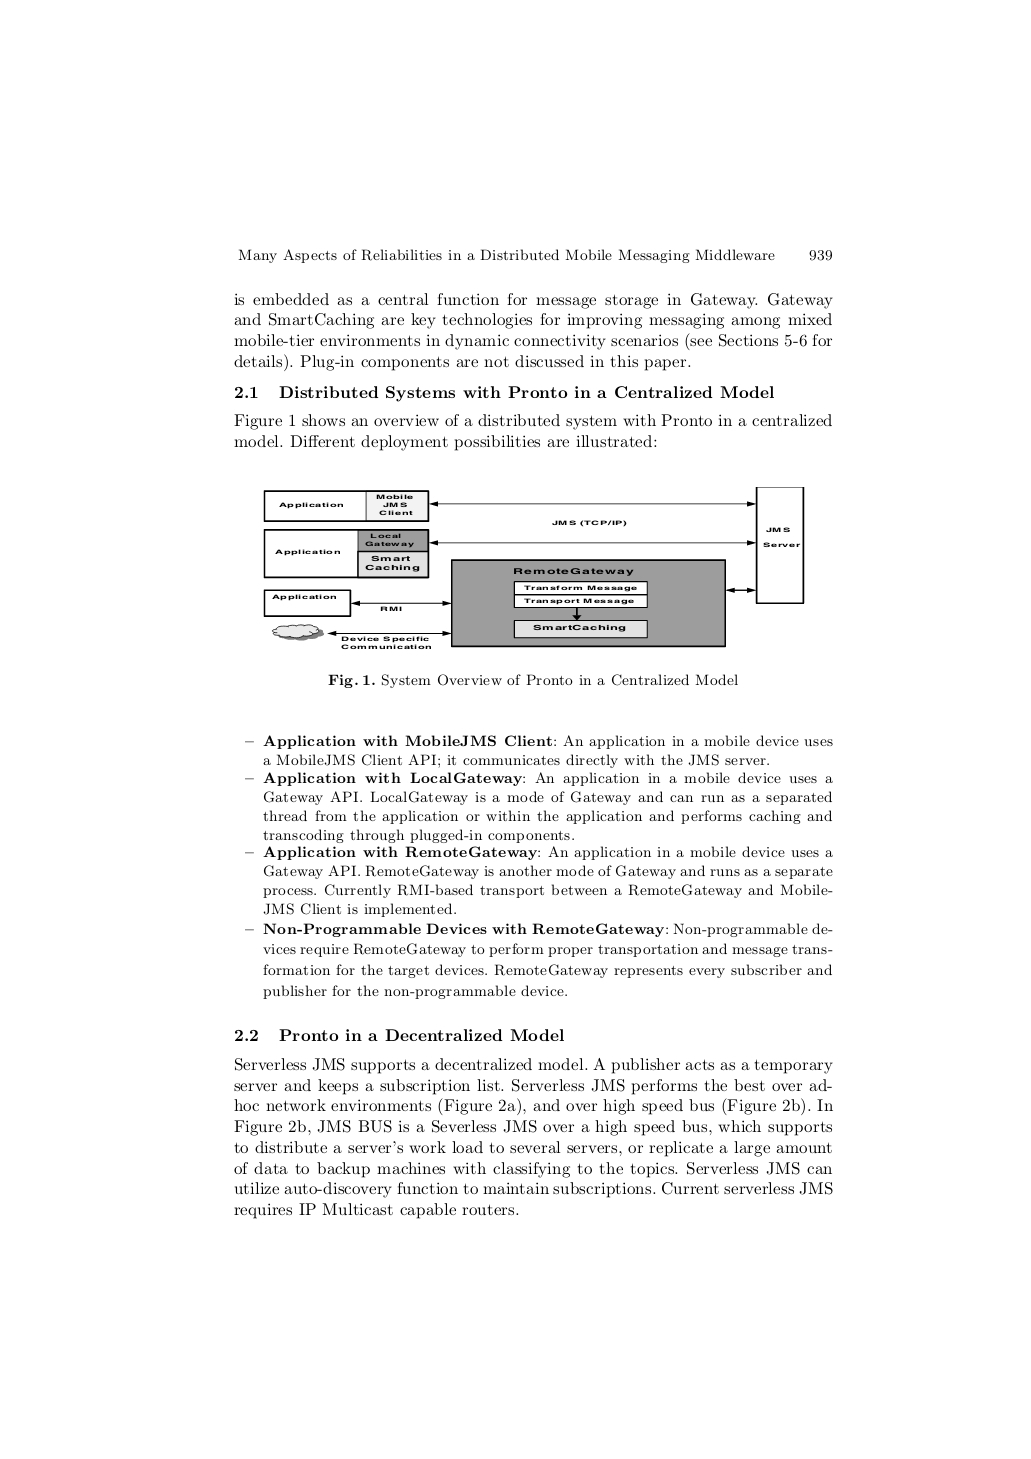figure: (263, 485, 804, 650)
